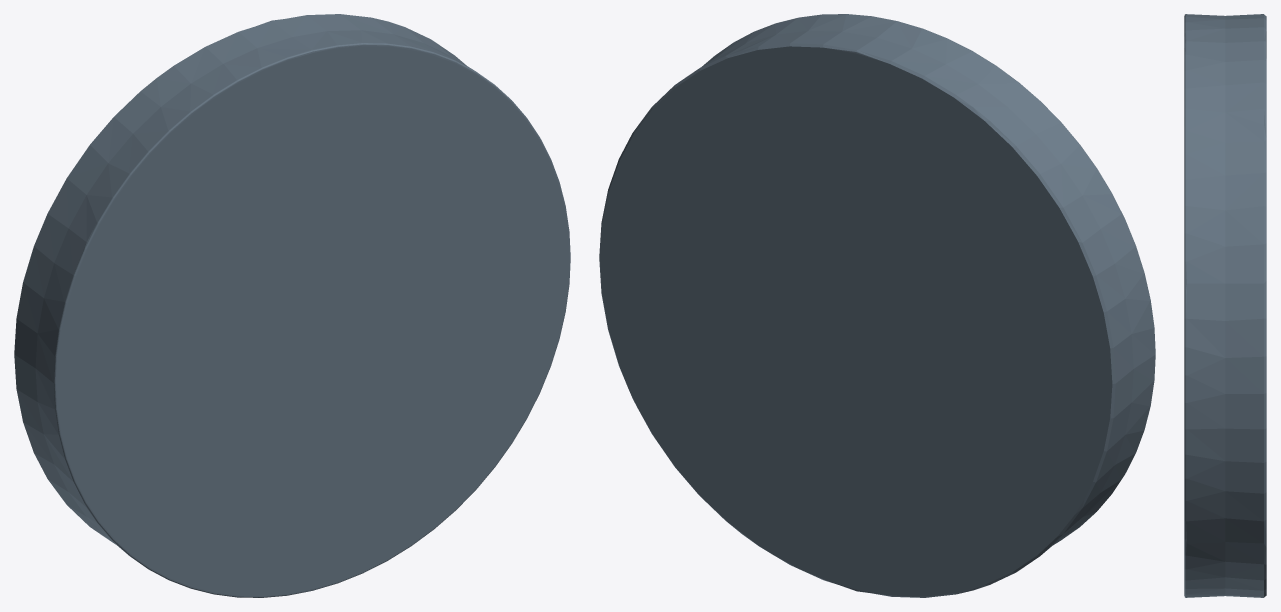
The picture shows the model from 3 angles, left to right: view 1: azimuth 30°, elevation 25°; view 2: azimuth 150°, elevation 25°; view 3: azimuth 270°, elevation 25°; orthographic projection. The views are drawn at different scales.
Parts seen in each view (by area): view 1: A0509_1_0; view 2: A0509_1_0; view 3: A0509_1_0.
Part boxes in pixels (x1=…): A0509_1_0: x1=14, y1=14, x2=570, y2=597; A0509_1_0: x1=599, y1=14, x2=1155, y2=597; A0509_1_0: x1=1184, y1=14, x2=1266, y2=597.
Size of the model in its own units: 117 by 16.49 by 117.
